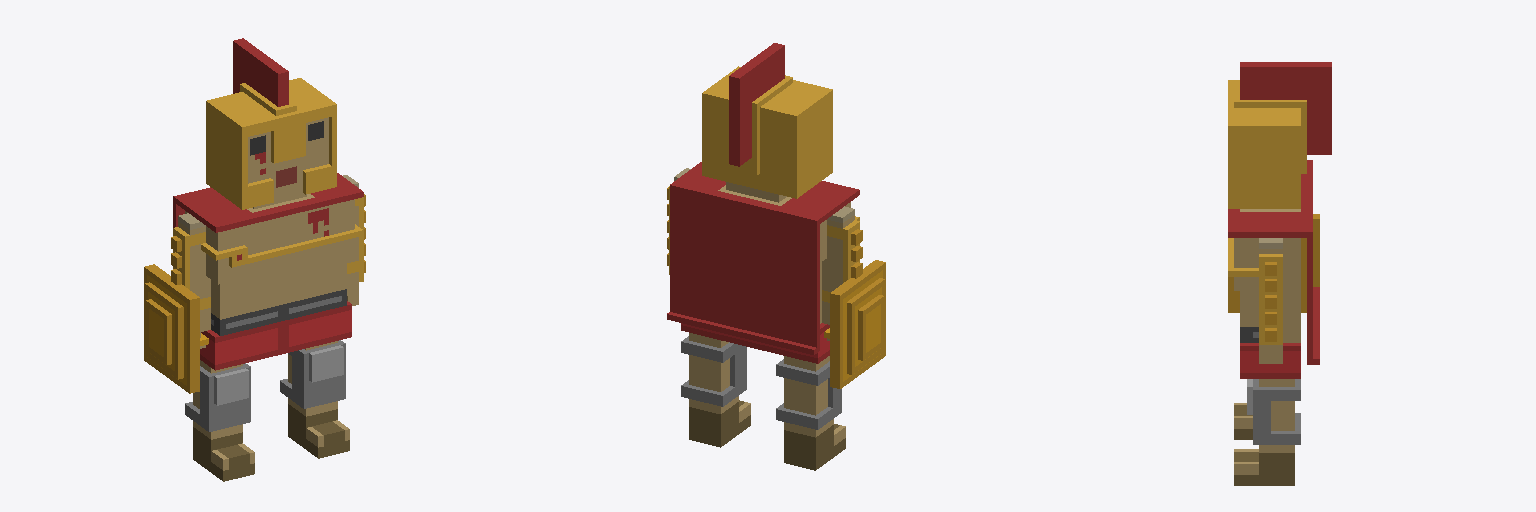
3 renders of one model, left to right at view 1: azimuth 30°, elevation 25°; view 2: azimuth 150°, elevation 25°; view 3: azimuth 270°, elevation 25°, orthographic.
Size of the model in its own units: 39 by 71 by 17.
1 materials, 1 textured.